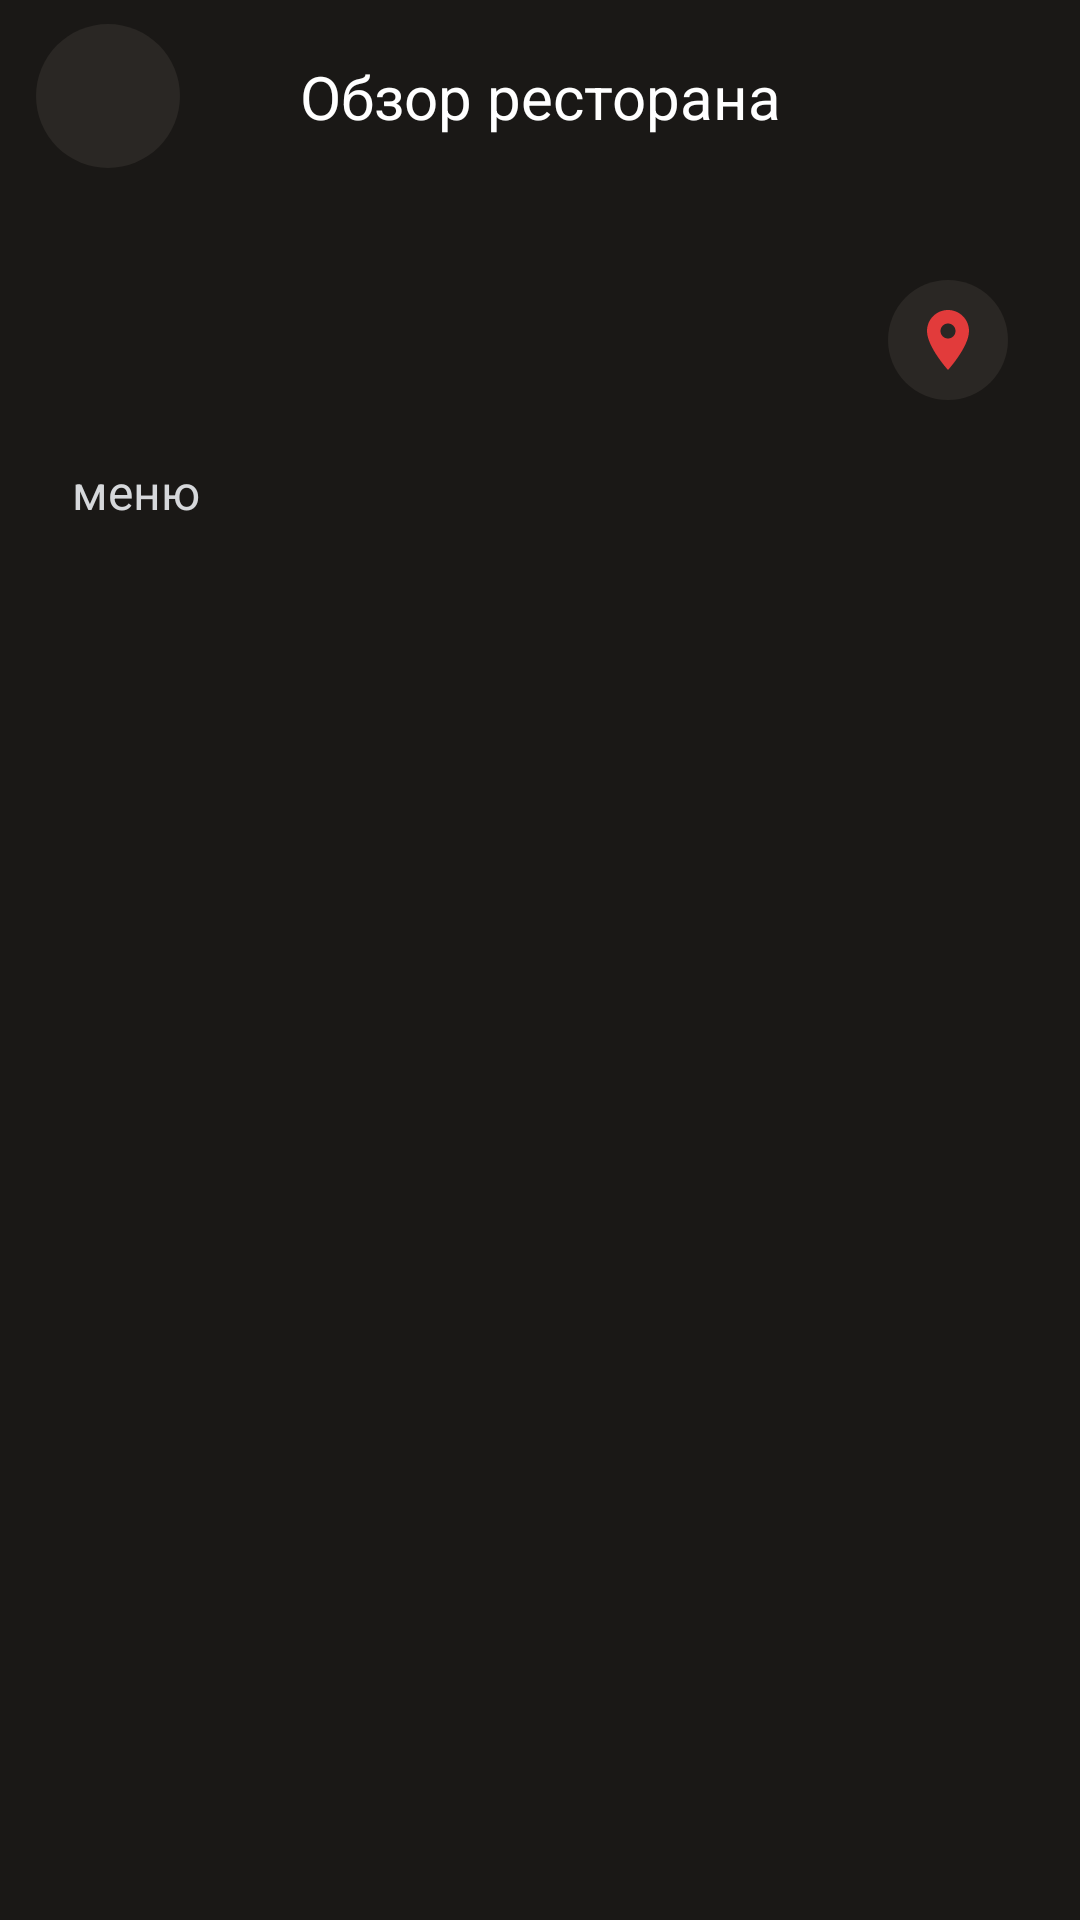

Icons on this 1080*1920 Android screen, each with the point to tap as (x,y):
pin: (948,340)
